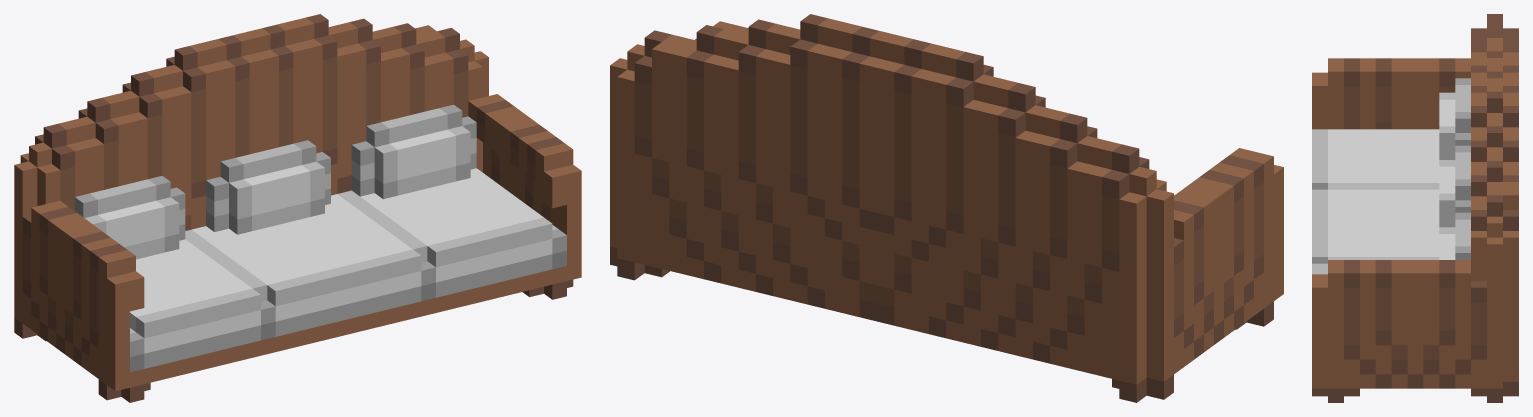
The model's file is Interior_Furniture_Couch_01.obj.
3 views of the same model, side by side, from view 1: azimuth 30°, elevation 25°; view 2: azimuth 150°, elevation 25°; view 3: azimuth 270°, elevation 25° (orthographic). The views are drawn at different scales.
Bounding box in the file's own units: 3.2 × 1.6 × 1.3.
1 material, 1 textured.
